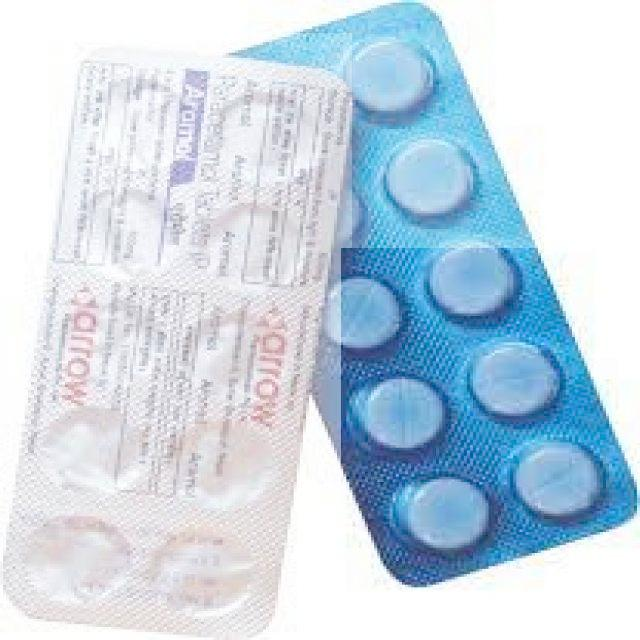authentic: (0, 33, 352, 640), (341, 248, 640, 608)
